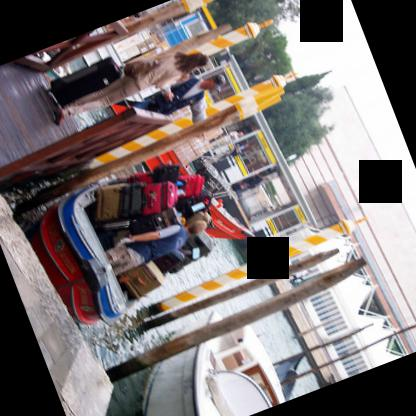backpack: (191, 195, 209, 212)
handbag: (122, 53, 174, 76)
suitcase: (47, 57, 121, 107), (117, 262, 166, 301), (141, 180, 178, 216), (94, 182, 126, 221), (180, 230, 212, 261), (119, 182, 146, 217), (150, 249, 184, 273), (152, 206, 182, 230), (175, 174, 203, 199), (151, 164, 180, 183), (174, 198, 193, 219), (98, 218, 130, 230)
